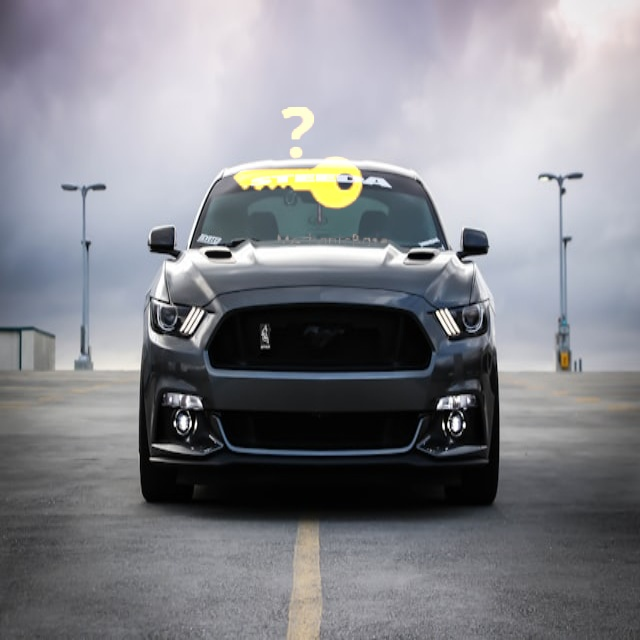symbol: (198, 59, 396, 257)
